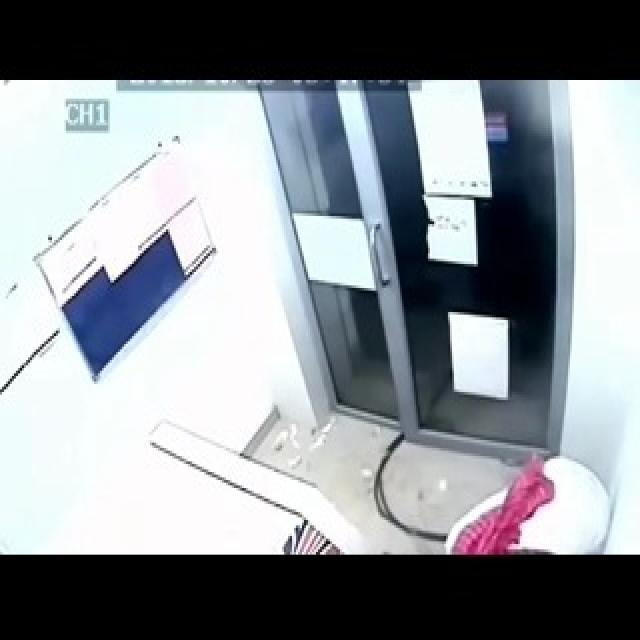thief: (428, 445, 614, 553)
